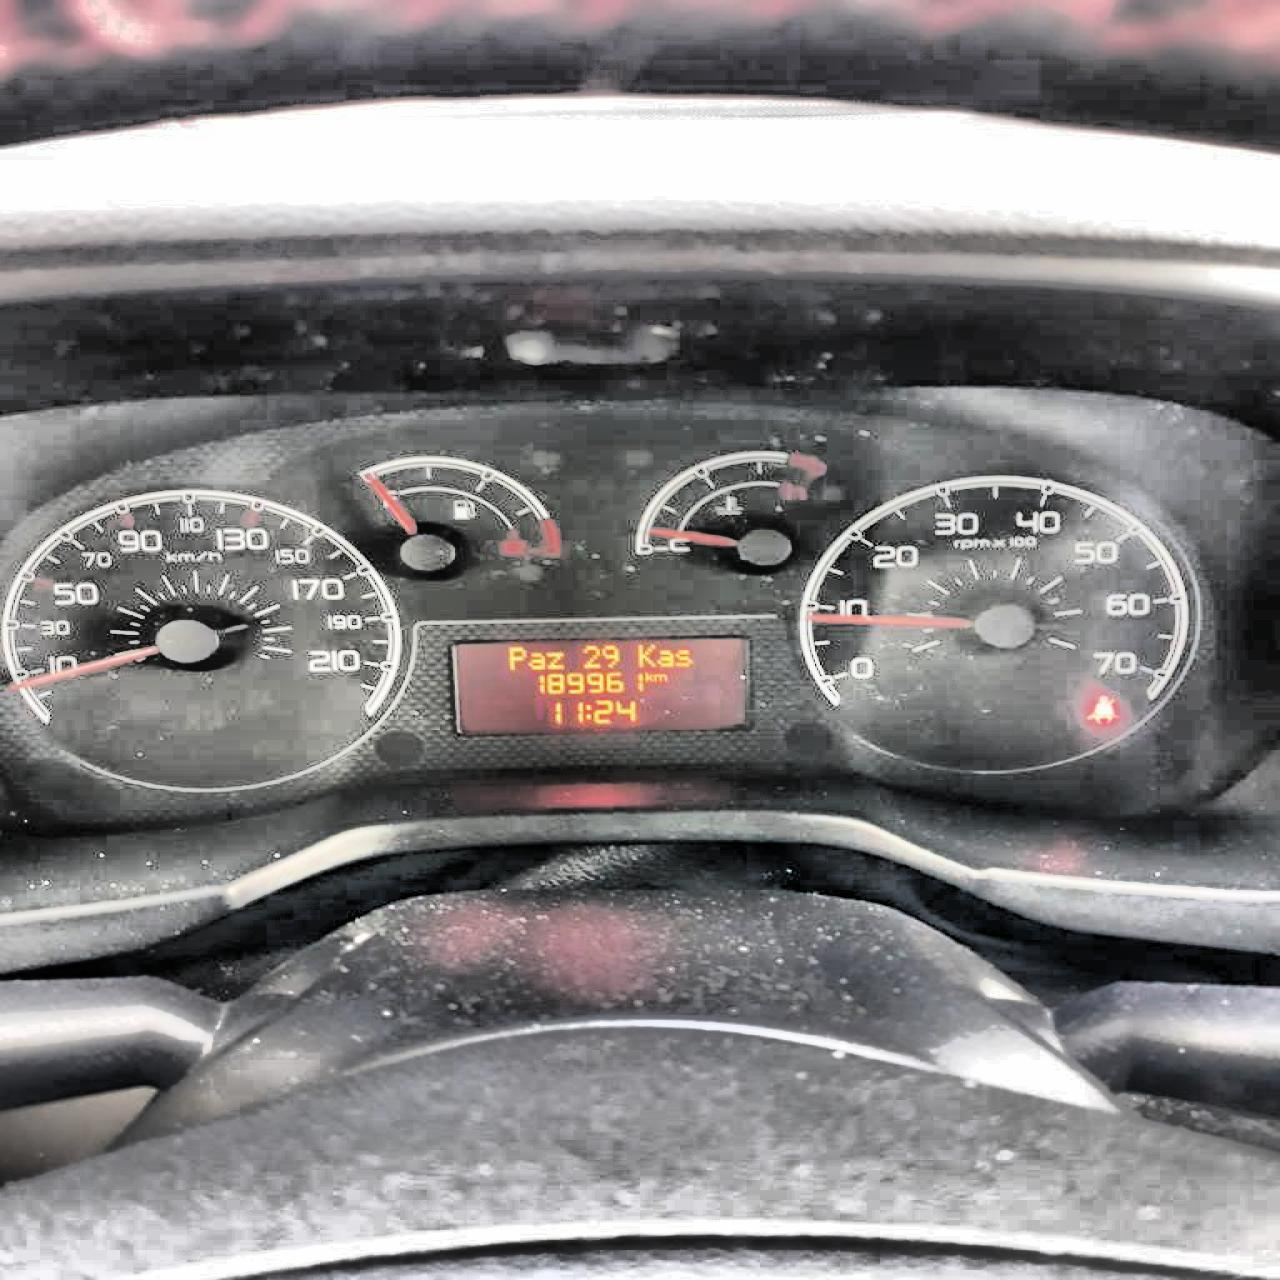1: (552, 700, 564, 724), (576, 699, 581, 722), (635, 672, 641, 693), (537, 673, 543, 694)
2: (592, 699, 613, 723), (581, 644, 600, 668)
4: (613, 699, 635, 722)
6: (605, 672, 624, 693)
8: (545, 673, 564, 694)
9: (585, 669, 604, 693), (601, 644, 620, 667), (565, 672, 584, 693)
X: (635, 641, 655, 667), (505, 645, 525, 669), (544, 651, 564, 669), (673, 647, 692, 667), (655, 647, 673, 667), (526, 651, 543, 669), (652, 672, 668, 682), (584, 702, 592, 720), (644, 670, 652, 681)
odometer: (440, 631, 760, 735)
